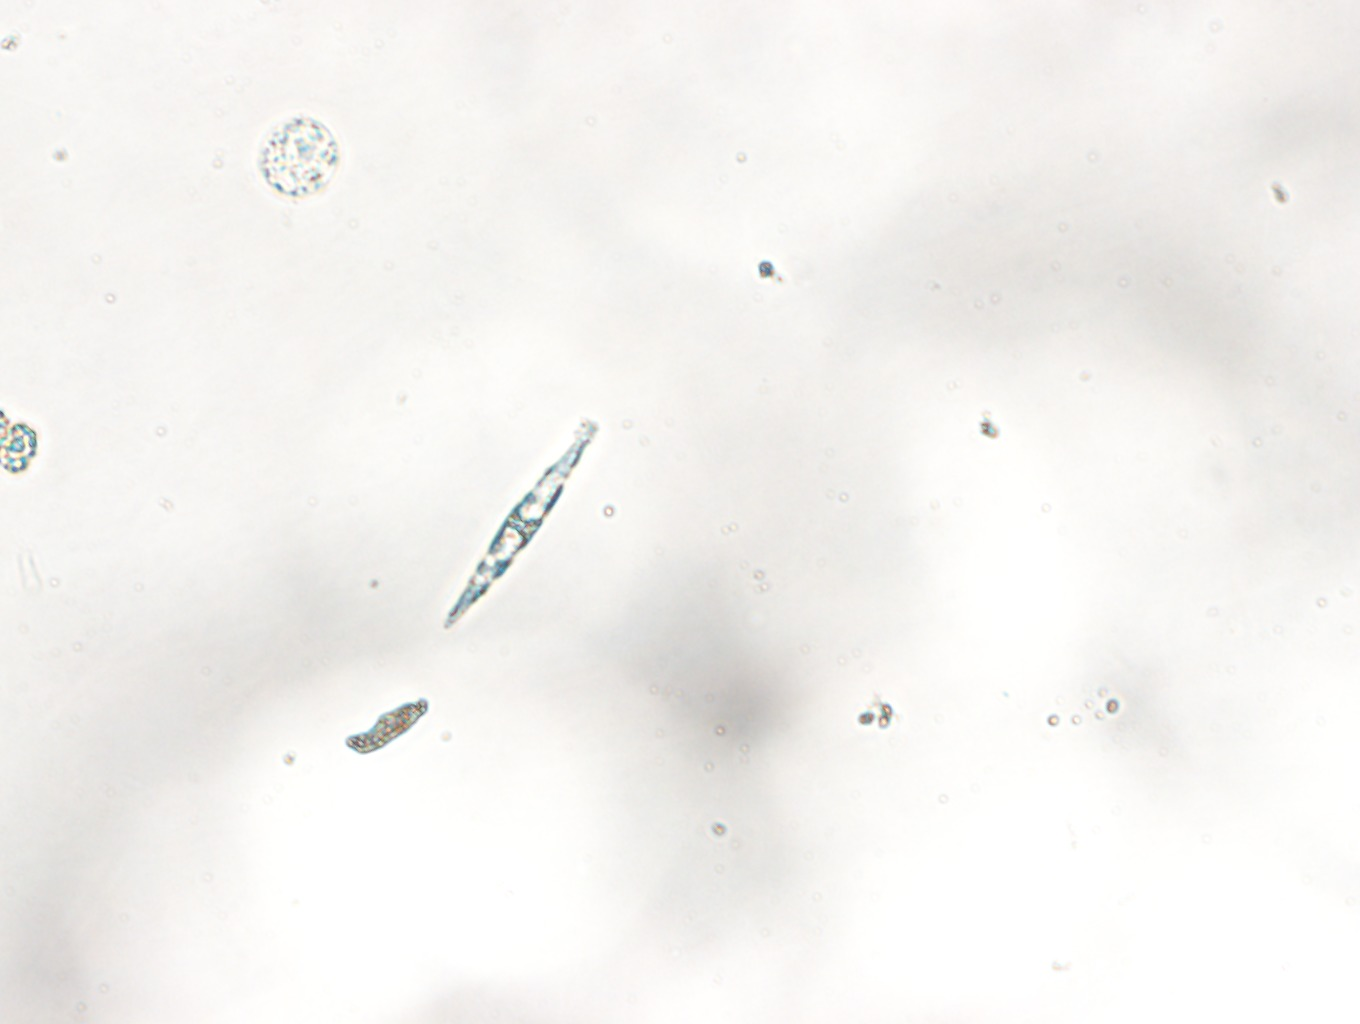navicula: (443, 432, 595, 628)
